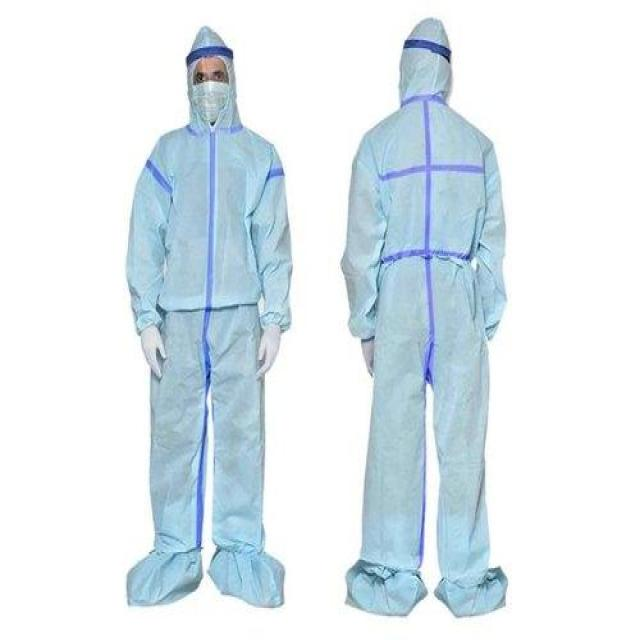Coverall: (336, 11, 514, 621), (121, 21, 299, 619)
Gloves: (137, 322, 171, 384), (253, 320, 278, 382), (355, 335, 382, 380)
Mask: (186, 79, 229, 122)
